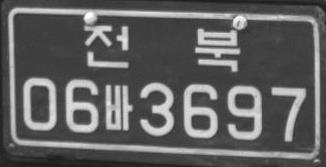0: (22, 76, 57, 131)
3: (139, 82, 174, 135)
6: (183, 82, 218, 138), (64, 78, 99, 133)
7: (270, 85, 307, 142)
9: (227, 83, 263, 141)
바: (104, 84, 133, 131)
전북_D: (84, 24, 241, 71)
